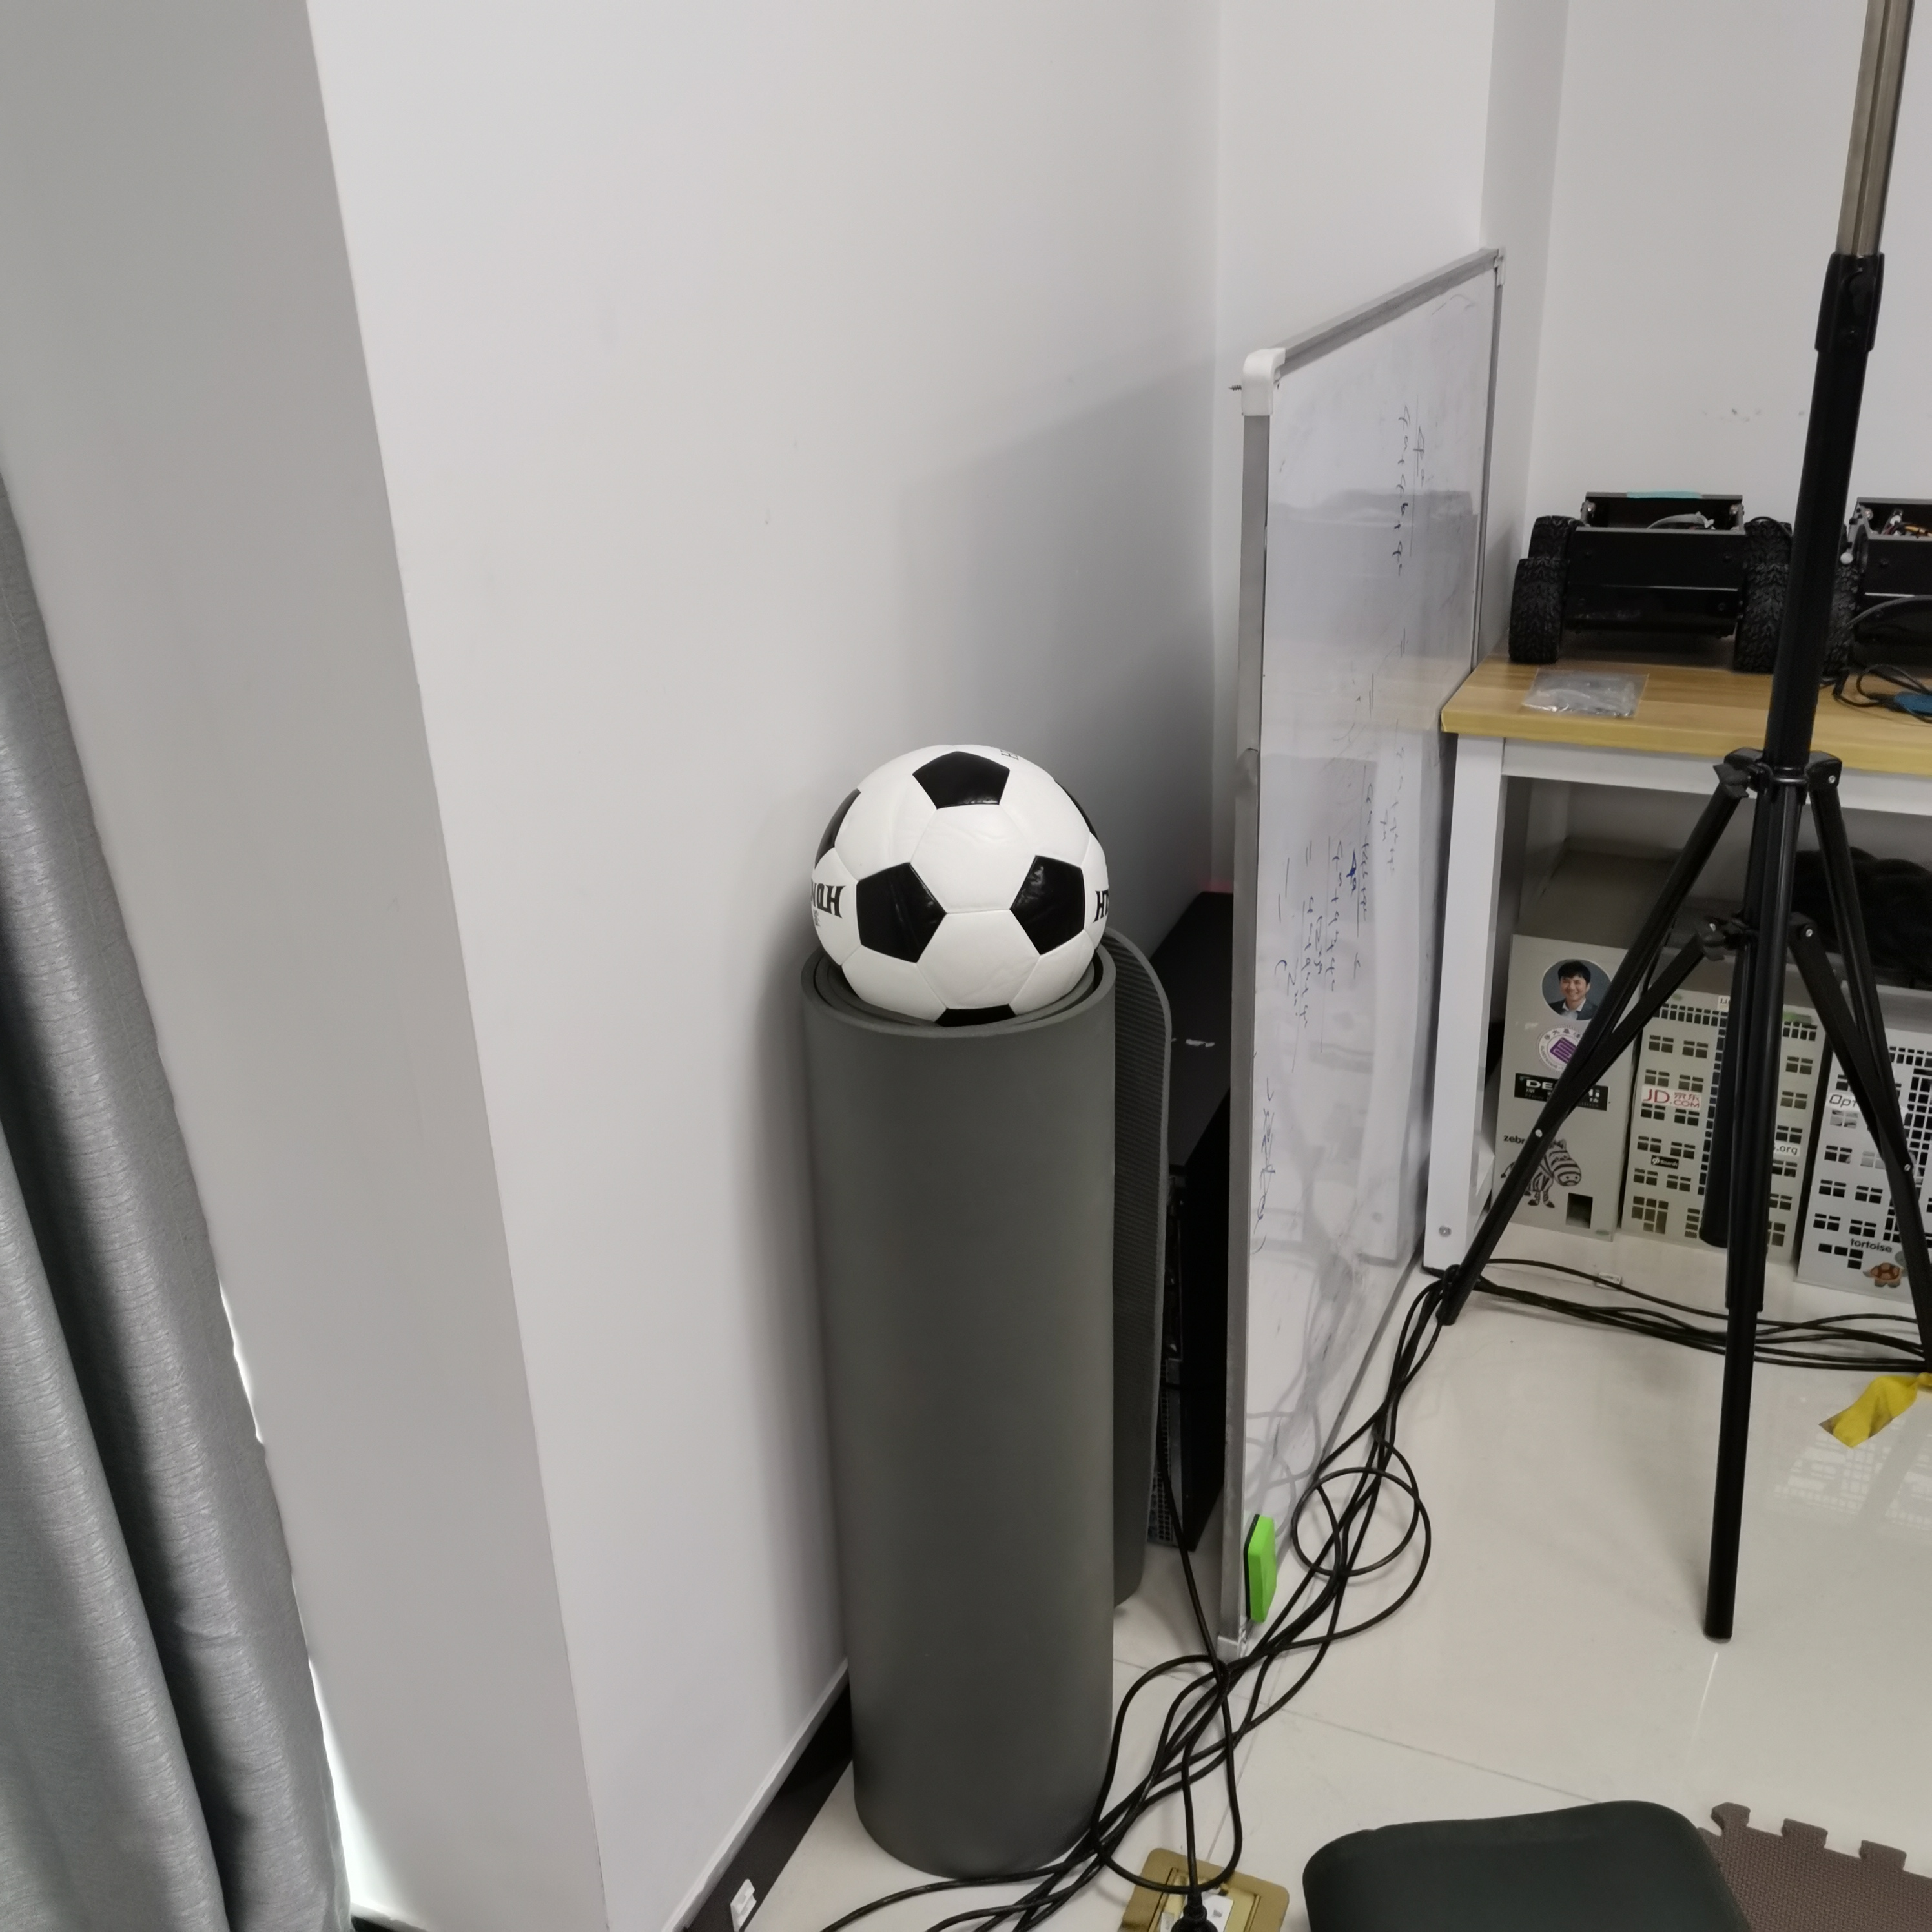football: (810, 743, 1111, 1019)
